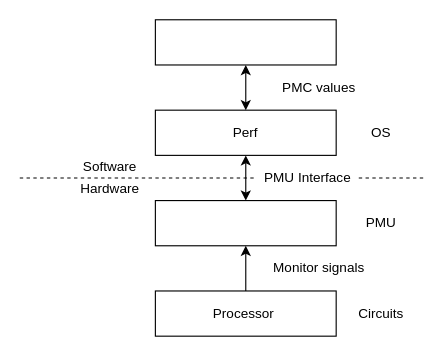
The diagram is 447 pixels wide and 356 high, and some of its shapes have lost their labels. The centre of each missing label's shape, as x and y in pixels:
"Performance Monitor Counters" belongs at pixel 245 222.
"pmu-tools" belongs at pixel 245 42.
